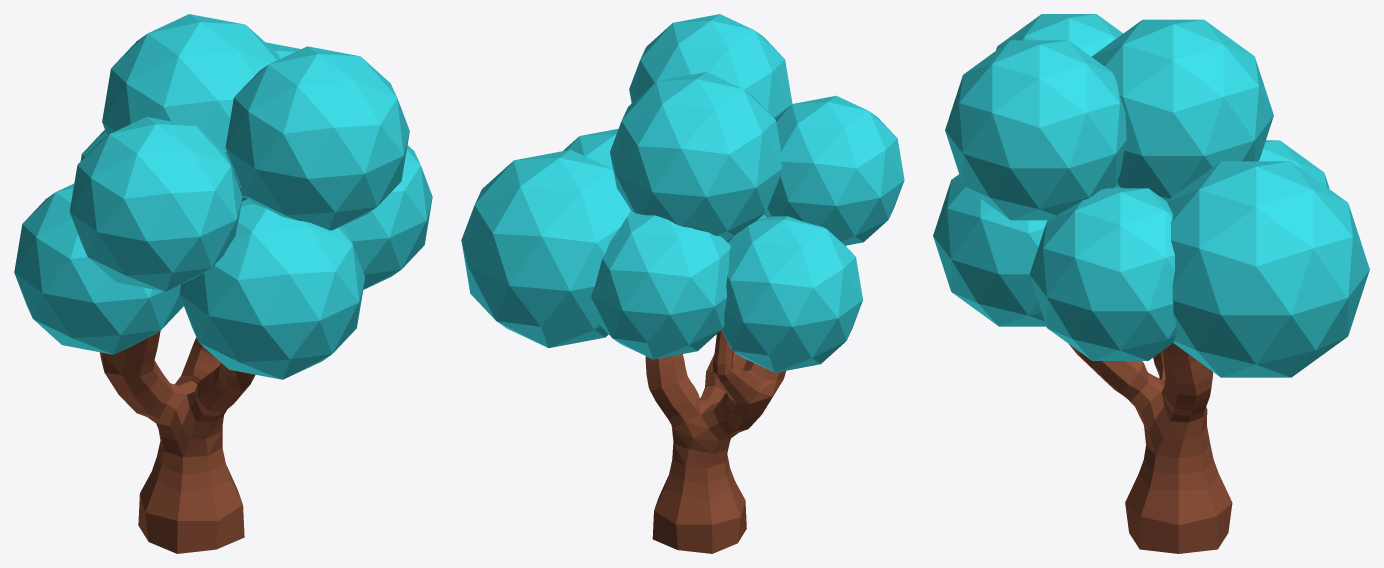
Rendered from tree2.fbx.
The picture shows the model from 3 angles, left to right: view 1: azimuth 30°, elevation 25°; view 2: azimuth 150°, elevation 25°; view 3: azimuth 270°, elevation 25°; orthographic projection. The views are drawn at different scales.
Visible parts, largest first — view 1: tree3; view 2: tree3; view 3: tree3.
Boxes of the visible parts, bbox=[...] form: tree3: bbox=[14, 14, 432, 553]; tree3: bbox=[461, 14, 904, 553]; tree3: bbox=[933, 14, 1369, 553].
Size of the model in its own units: 635 by 823 by 631.
